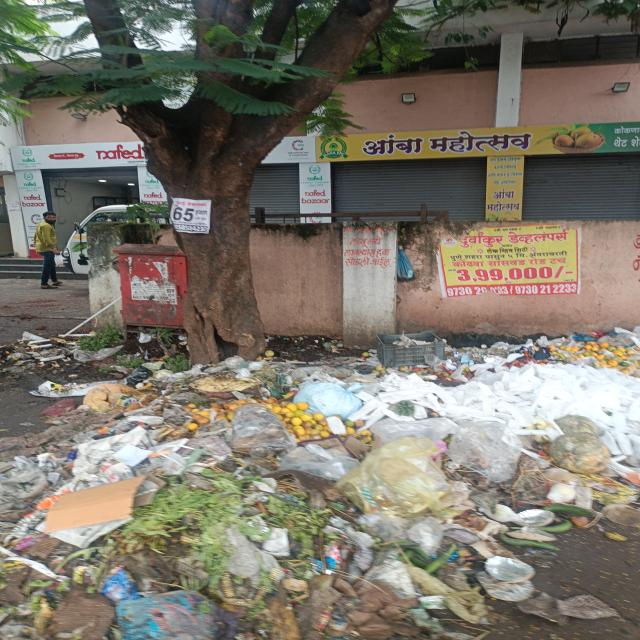garbage: (328, 338, 640, 636), (0, 361, 325, 640)
